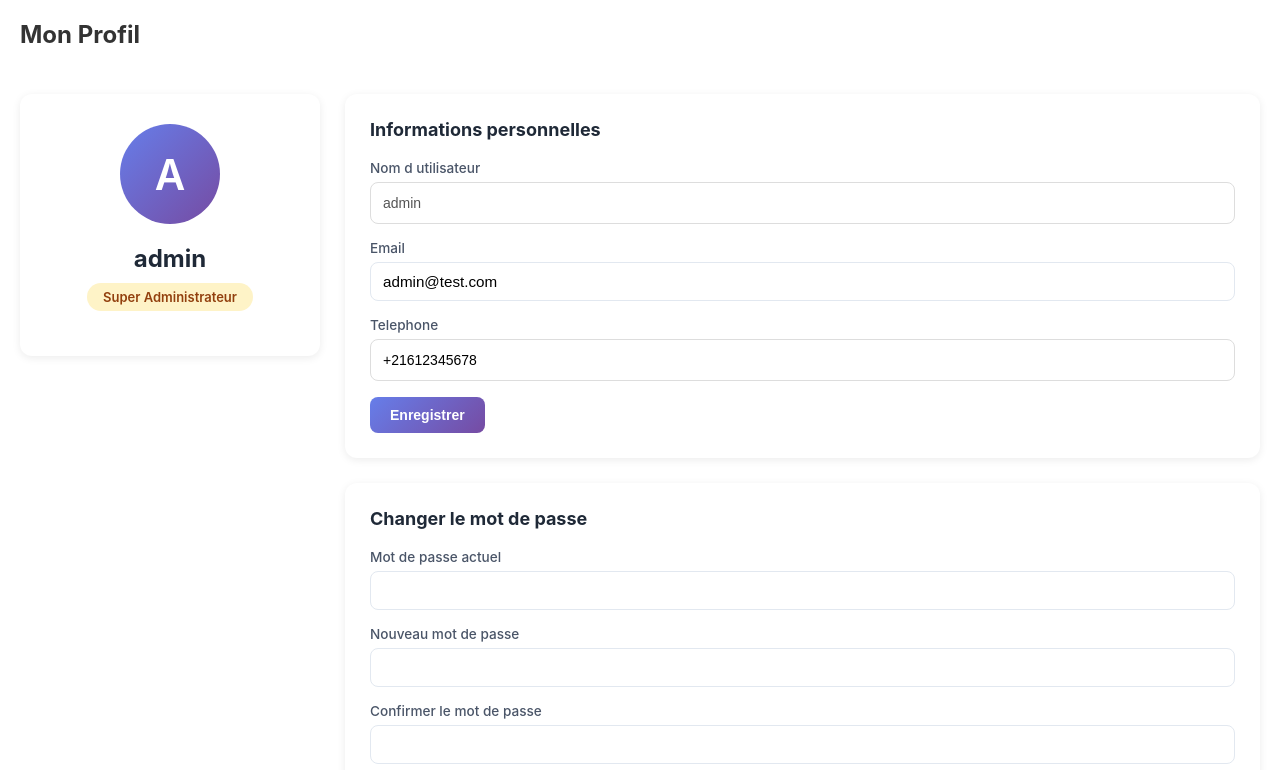
Profile › updates profile on submit
Expected: the field showing "admin@test.com" below "Email" is shown, left=370, top=262, right=1235, bottom=301
Click the button "Enregistrer": coordinates (427, 415) left=370, top=397, right=485, bottom=433
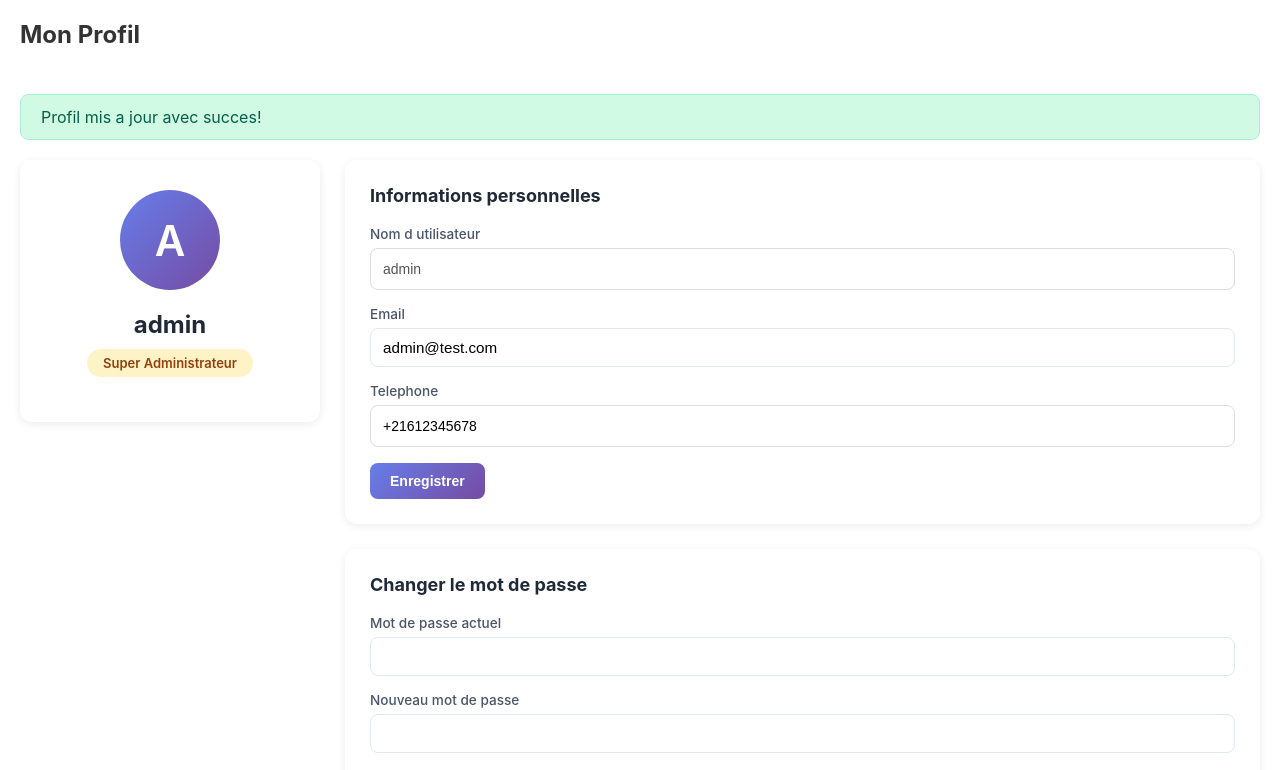
Expected: the text "Profil mis a jour avec succes!" is shown, left=20, top=94, right=1260, bottom=140
